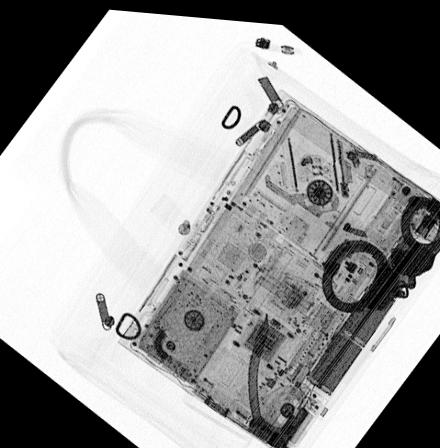HandCuffs: (320, 184, 440, 308)
